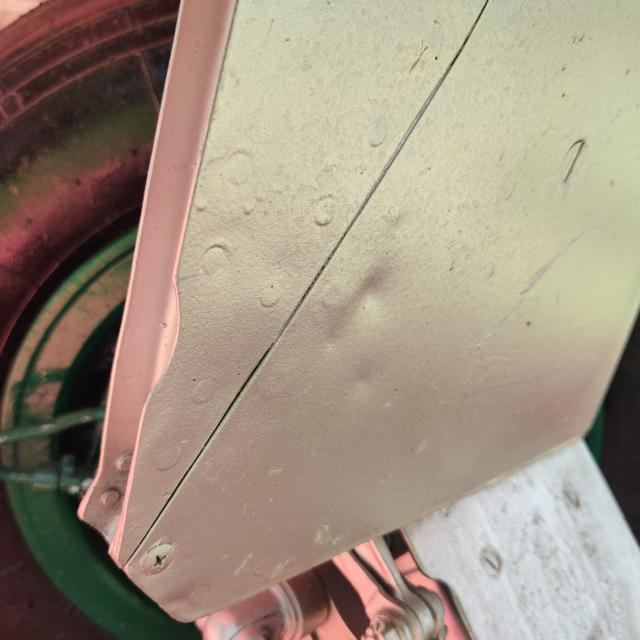dent: (313, 243, 414, 354)
